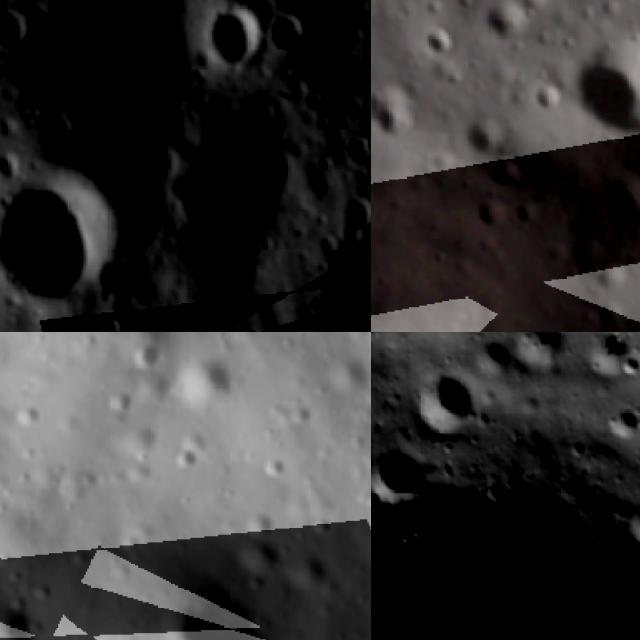crater: (0, 164, 129, 308), (156, 571, 270, 640), (412, 363, 498, 444), (577, 31, 640, 138), (201, 0, 270, 75), (371, 442, 434, 510), (170, 353, 243, 410), (504, 332, 577, 375), (487, 4, 551, 44), (264, 8, 316, 57), (329, 197, 371, 250), (585, 332, 634, 377), (375, 87, 416, 138), (0, 4, 39, 53), (604, 397, 640, 446), (240, 506, 282, 546), (334, 131, 371, 174), (427, 30, 462, 69), (605, 181, 640, 220), (0, 608, 42, 640), (6, 395, 41, 431), (622, 486, 640, 548), (490, 158, 528, 187), (86, 312, 137, 332), (102, 389, 136, 416), (174, 443, 200, 471), (313, 517, 342, 542), (538, 82, 560, 114), (0, 531, 17, 564), (265, 455, 287, 479), (363, 471, 371, 497)
